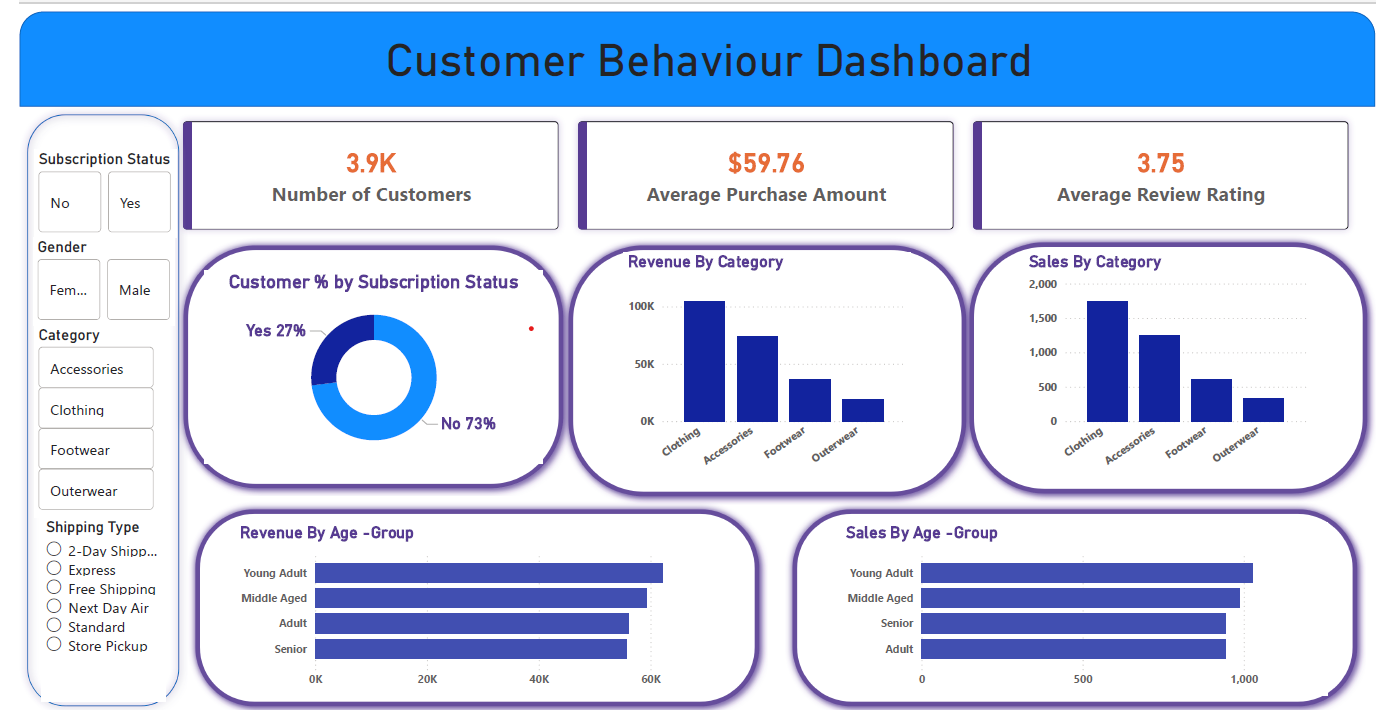

What the dashboard file says about the page in this screenshot:
{"tool":"powerbi","page":{"name":"Page 1","canvas":[1500,820],"ordinal":0},"visuals":[{"type":"cardVisual","fields":{"Data":["public customer.Number of Customers","public customer.Average Purchase Amount","public customer.Average Review Rating"]},"box":[153.3,135.5,1347.1,175.8],"z":0},{"type":"shape","box":[0,41.9,1500.3,104.9],"z":1000},{"type":"textbox","box":[135.5,61.3,1255.1,114.5],"z":2000},{"type":"shape","box":[172.6,292,438.8,285.5],"z":3000},{"type":"donutChart","title":"Customer % by Subscription Status","fields":{"Category":["public customer.subscription_status"],"Y":["CountNonNull(public customer.customer_id)"]},"box":[204.9,329.1,374.3,212.9],"z":4000},{"type":"shape","box":[598.5,292,458.2,295.2],"z":5000},{"type":"shape","box":[1041.8,288.8,458.2,295.2],"z":6000},{"type":"clusteredColumnChart","title":"Revenue By Category","fields":{"Y":["Sum(public customer.purchase_amount)"],"Category":["public customer.category"]},"box":[667.9,308.1,317.8,256.5],"z":7000},{"type":"clusteredColumnChart","title":"Sales By Category","fields":{"Y":["CountNonNull(public customer.customer_id)"],"Category":["public customer.category"]},"box":[1111.5,308.1,317.8,256.5],"z":8000},{"type":"shape","box":[0,146.8,185.5,672.7],"z":9000},{"type":"advancedSlicerVisual","title":"Subscription Status","fields":{"Values":["public customer.subscription_status"]},"box":[16.1,195.2,156.5,96.8],"z":10000},{"type":"advancedSlicerVisual","title":"Gender","fields":{"Values":["public customer.gender"]},"box":[14.5,292,156.5,96.8],"z":11000},{"type":"advancedSlicerVisual","title":"Category","fields":{"Values":["public customer.category"]},"box":[16.1,388.8,137.1,212.9],"z":12000},{"type":"listSlicer","title":"Shipping Type","fields":{"Values":["public customer.shipping_type"]},"box":[24.2,601.7,137.1,203.3],"z":13000},{"type":"shape","box":[185.5,584,642.1,235.5],"z":14000},{"type":"clusteredBarChart","title":"Revenue By Age -Group","fields":{"Y":["Sum(public customer.purchase_amount)"],"Category":["public customer.age_group"]},"box":[238.8,606.6,537.2,192],"z":15000},{"type":"shape","box":[847,584,642.1,235.5],"z":16000},{"type":"clusteredBarChart","title":"Sales By Age -Group","fields":{"Y":["CountNonNull(public customer.customer_id)"],"Category":["public customer.age_group"]},"box":[909.9,606.6,537.2,192],"z":17000}]}

Visuals, with their boxes in screenshot pixels (x1, y1, x2, y2):
cardVisual - public customer.Number of Customers x public customer.Average Purchase Amount: bbox=(165, 91, 1358, 247)
shape: bbox=(29, 8, 1358, 101)
textbox: bbox=(149, 26, 1261, 127)
shape: bbox=(182, 230, 570, 483)
"Customer % by Subscription Status" donutChart: bbox=(210, 263, 542, 451)
shape: bbox=(559, 230, 965, 492)
shape: bbox=(952, 227, 1358, 489)
"Revenue By Category" clusteredColumnChart: bbox=(620, 244, 902, 471)
"Sales By Category" clusteredColumnChart: bbox=(1013, 244, 1295, 471)
shape: bbox=(29, 101, 193, 697)
"Subscription Status" advancedSlicerVisual: bbox=(43, 144, 182, 230)
"Gender" advancedSlicerVisual: bbox=(42, 230, 180, 316)
"Category" advancedSlicerVisual: bbox=(43, 316, 164, 504)
"Shipping Type" listSlicer: bbox=(50, 504, 172, 684)
shape: bbox=(193, 489, 762, 697)
"Revenue By Age -Group" clusteredBarChart: bbox=(240, 509, 716, 679)
shape: bbox=(779, 489, 1348, 697)
"Sales By Age -Group" clusteredBarChart: bbox=(835, 509, 1311, 679)
